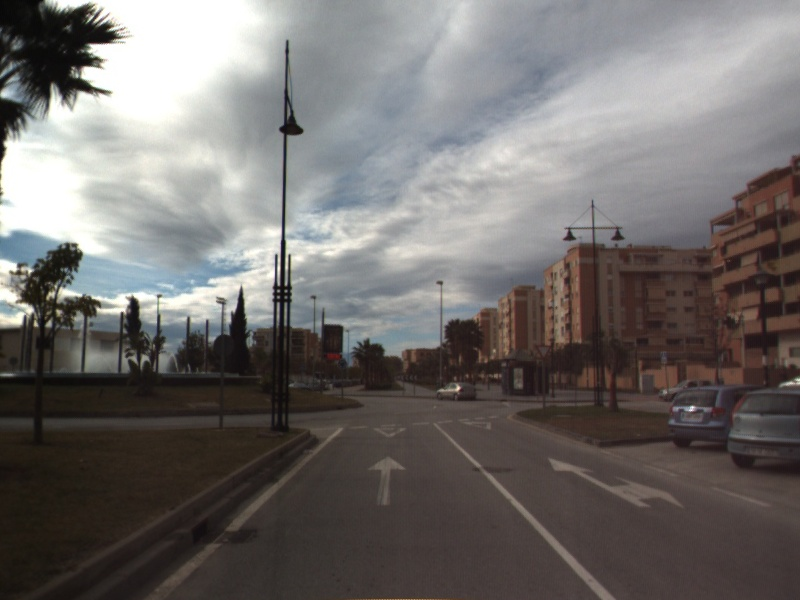STRAIGHT: (366, 454, 408, 507)
STRAIGHT_RIGHT: (547, 456, 686, 510)
